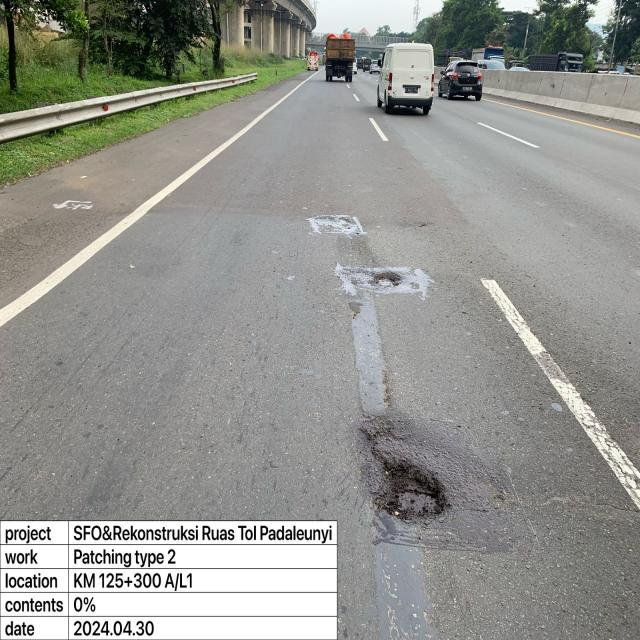Buraco: (368, 445, 454, 524), (366, 270, 404, 289), (311, 215, 353, 230)
